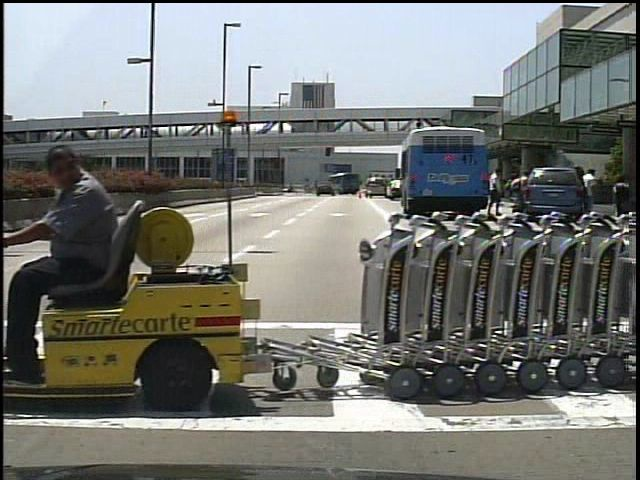person: (26, 144, 134, 384), (508, 167, 530, 220), (580, 165, 601, 214), (487, 166, 507, 217)
